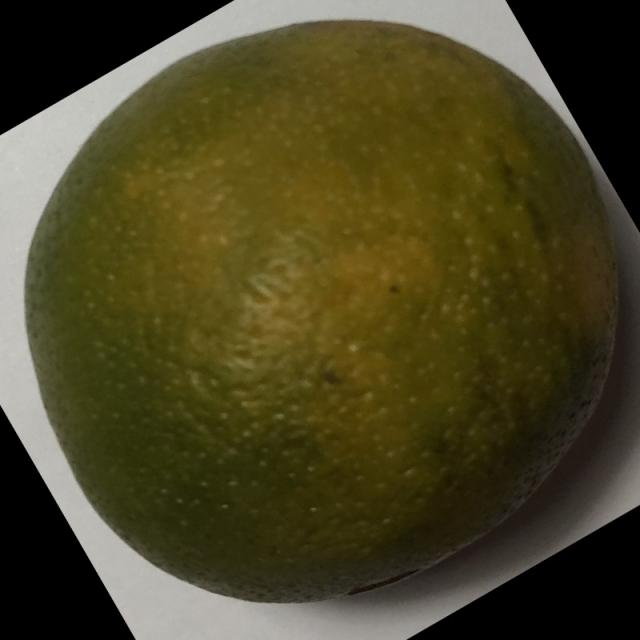canker: (28, 10, 640, 621)
